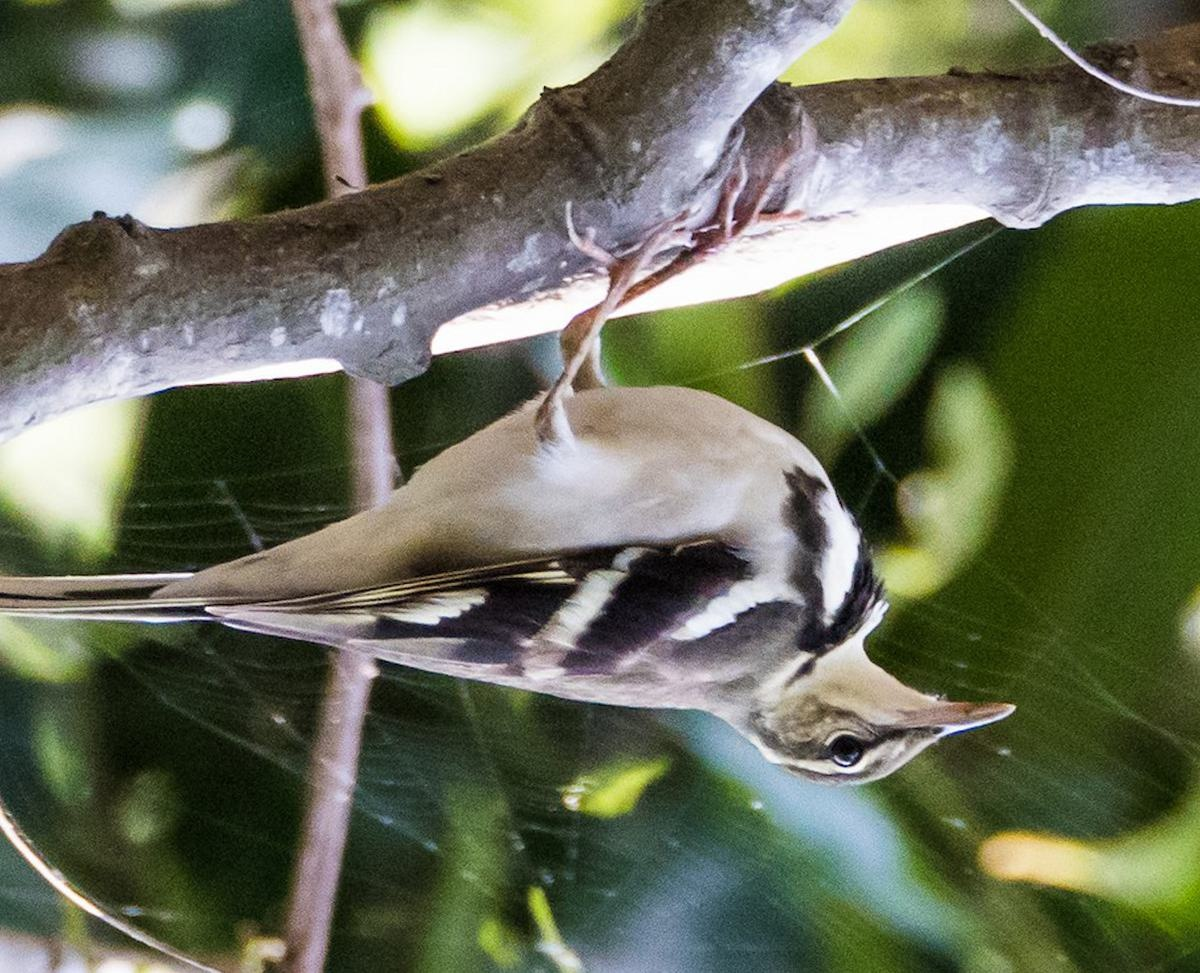wagtail: (121, 280, 996, 778)
